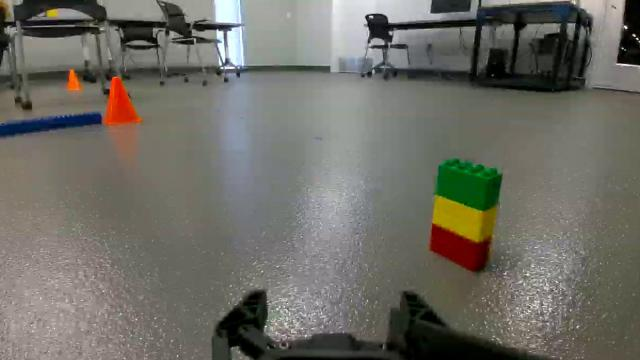lego: (399, 128, 520, 298)
